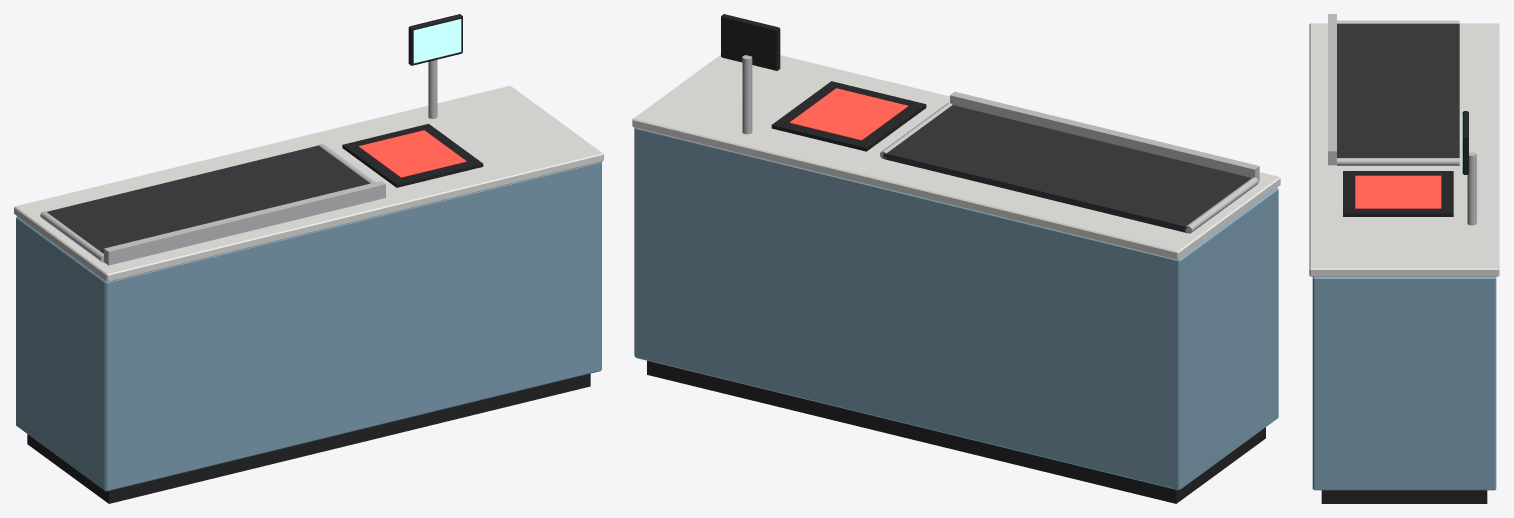
Rendered from checkout.glb.
3 views of the same model, side by side, from view 1: azimuth 30°, elevation 25°; view 2: azimuth 150°, elevation 25°; view 3: azimuth 270°, elevation 25° (orthographic). The views are drawn at different scales.
Parts seen in each view (by area): view 1: tint_body, top, belt, black_plastic, metal, scan_red, screen; view 2: tint_body, top, belt, black_plastic, metal, scan_red; view 3: tint_body, top, belt, black_plastic, metal, scan_red.
Boxes of the visible parts, left/top/right/bottom form: tint_body: left=16, top=161, right=601, bottom=491; top: left=14, top=85, right=603, bottom=282; belt: left=47, top=145, right=370, bottom=253; black_plastic: left=27, top=14, right=590, bottom=503; metal: left=40, top=60, right=437, bottom=265; scan_red: left=359, top=130, right=466, bottom=177; screen: left=413, top=19, right=461, bottom=63; tint_body: left=634, top=127, right=1278, bottom=490; top: left=632, top=54, right=1280, bottom=260; belt: left=883, top=105, right=1251, bottom=232; black_plastic: left=647, top=14, right=1265, bottom=503; metal: left=742, top=55, right=1259, bottom=233; scan_red: left=790, top=88, right=907, bottom=140; tint_body: left=1312, top=276, right=1496, bottom=490; top: left=1309, top=23, right=1499, bottom=276; belt: left=1337, top=23, right=1459, bottom=157; black_plastic: left=1321, top=111, right=1487, bottom=503; metal: left=1328, top=14, right=1476, bottom=225; scan_red: left=1355, top=175, right=1441, bottom=208.
Size of the model in its own units: 1.9 by 1.22 by 0.62.
